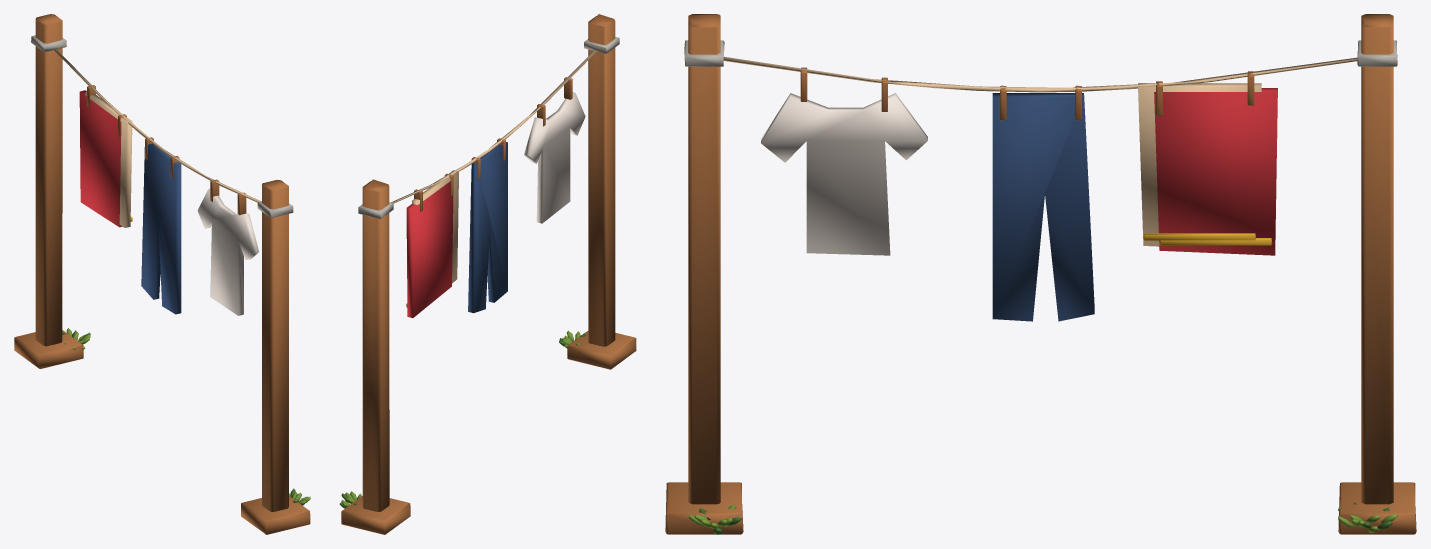
Rendered from prop.laundry-line.lod1.glb.
3 renders of one model, left to right at view 1: azimuth 30°, elevation 25°; view 2: azimuth 150°, elevation 25°; view 3: azimuth 270°, elevation 25°, orthographic. The views are drawn at different scales.
Size of the model in its own units: 0.3835 by 2.06 by 2.79.
